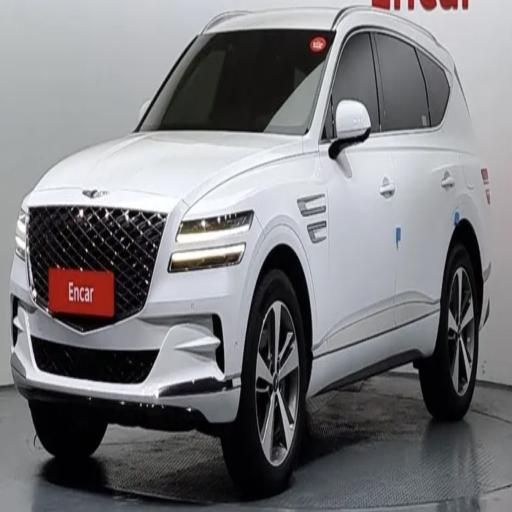normal: (6, 10, 506, 487)
